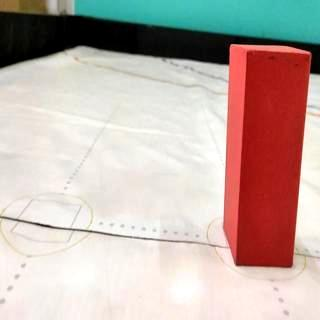redbox: (223, 42, 311, 268)
